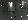person: (9, 4, 16, 16), (21, 3, 27, 14)
